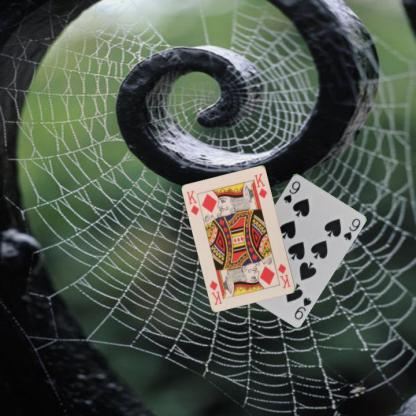9s: (280, 178, 301, 204), (292, 294, 312, 320)
Kd: (275, 261, 292, 290), (184, 188, 200, 216)
